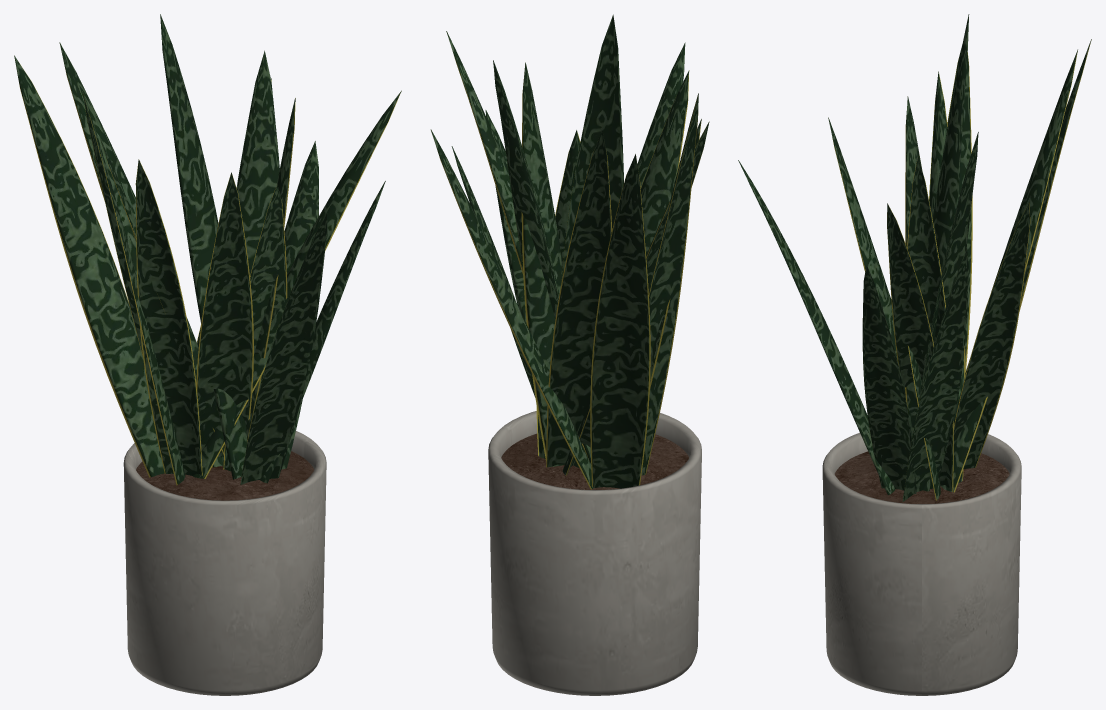
The model's file is sansevieria_90.glb.
The picture shows the model from 3 angles, left to right: view 1: azimuth 30°, elevation 25°; view 2: azimuth 150°, elevation 25°; view 3: azimuth 270°, elevation 25°; orthographic projection. The views are drawn at different scales.
Visible parts, largest first — view 1: sansevieria_90; view 2: sansevieria_90; view 3: sansevieria_90.
Part boxes in pixels (x1,y1,x2,y2): sansevieria_90: [14, 14, 401, 695]; sansevieria_90: [430, 14, 709, 695]; sansevieria_90: [738, 14, 1091, 695].
Size of the model in its own units: 0.4199 by 0.9 by 0.4616.
Materials: 3 (3 with a texture image).
